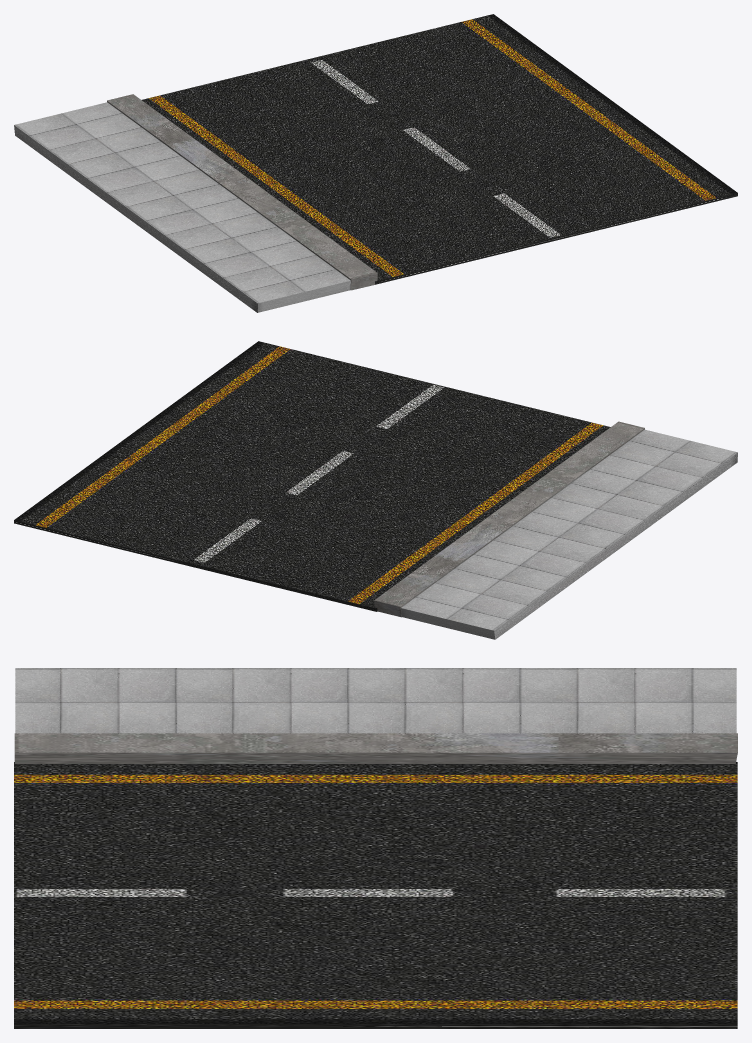
Rendered from road2.obj.
3 renders of one model, top to bottom at view 1: azimuth 30°, elevation 25°; view 2: azimuth 150°, elevation 25°; view 3: azimuth 270°, elevation 25°, orthographic. The views are drawn at different scales.
Parts seen in each view (by area): view 1: Cube, Cube.004, Cube.001; view 2: Cube, Cube.004, Cube.001; view 3: Cube, Cube.004, Cube.001.
Boxes of the visible parts, <box> form: Cube: <box>142,14,737,284</box>; Cube.004: <box>14,102,350,312</box>; Cube.001: <box>107,94,377,290</box>; Cube: <box>14,341,610,611</box>; Cube.004: <box>401,429,737,639</box>; Cube.001: <box>374,421,644,617</box>; Cube: <box>14,762,737,1028</box>; Cube.004: <box>15,668,736,733</box>; Cube.001: <box>14,733,737,763</box>.
Size of the model in its own units: 21.39 by 0.4801 by 18.89.
